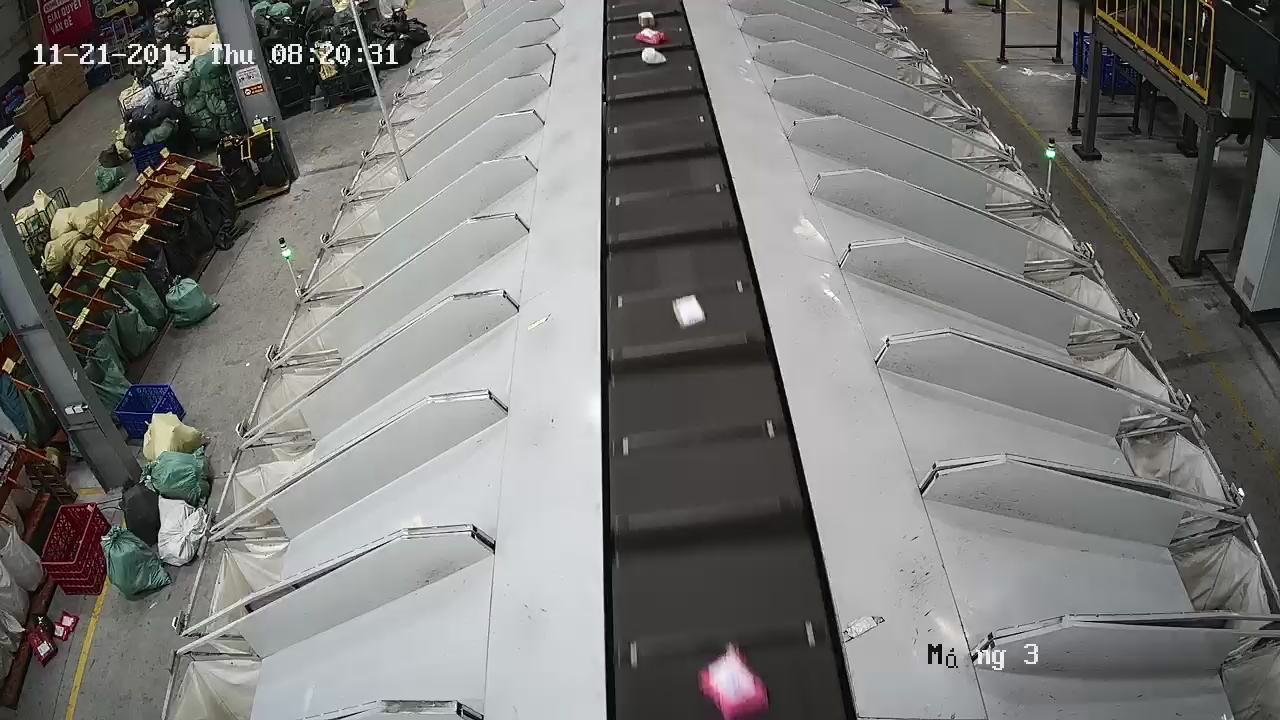parcel: (670, 292, 709, 331)
